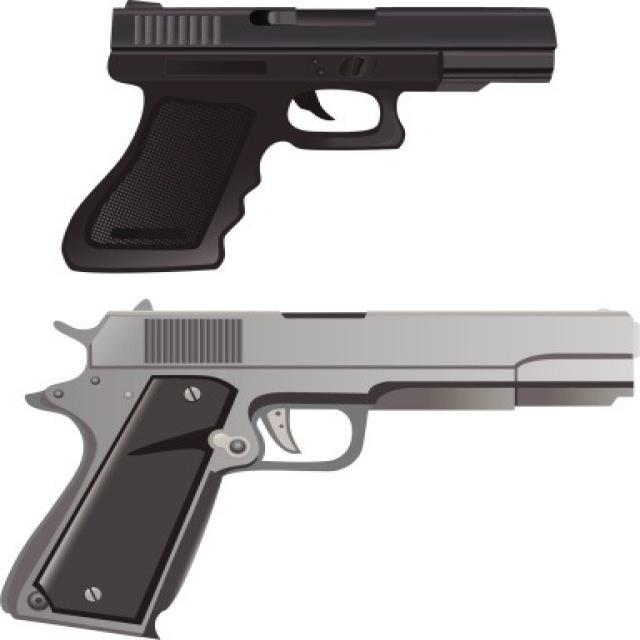pistol: (1, 283, 640, 639), (46, 0, 569, 286)
